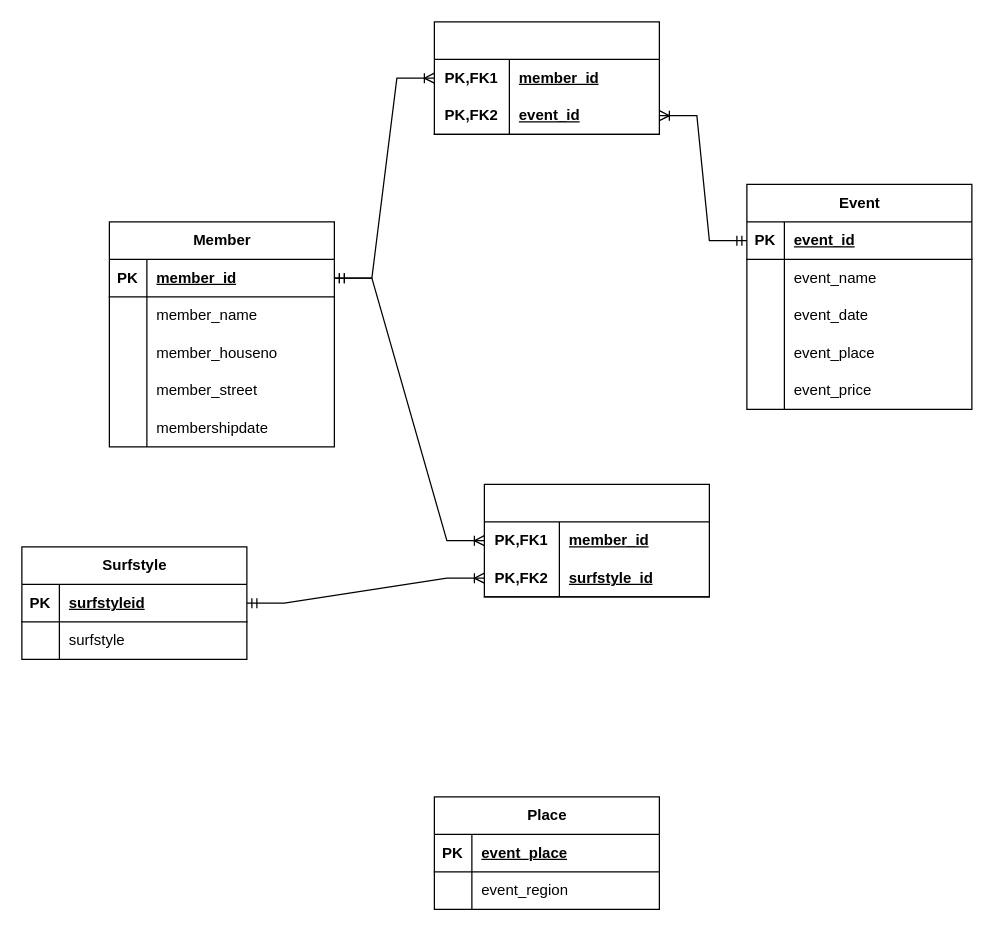
Some shapes in this 994 by 931 pixel diagram are drawn without their labels. Each missing label, with the box of its shape:
Member event: (433, 21, 659, 134)
Member surfstyle: (483, 483, 709, 597)
